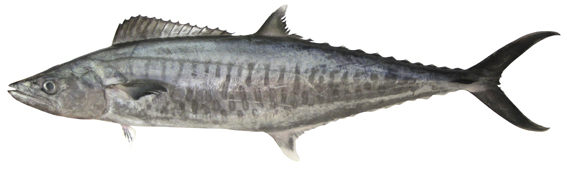fish: (7, 4, 562, 162)
